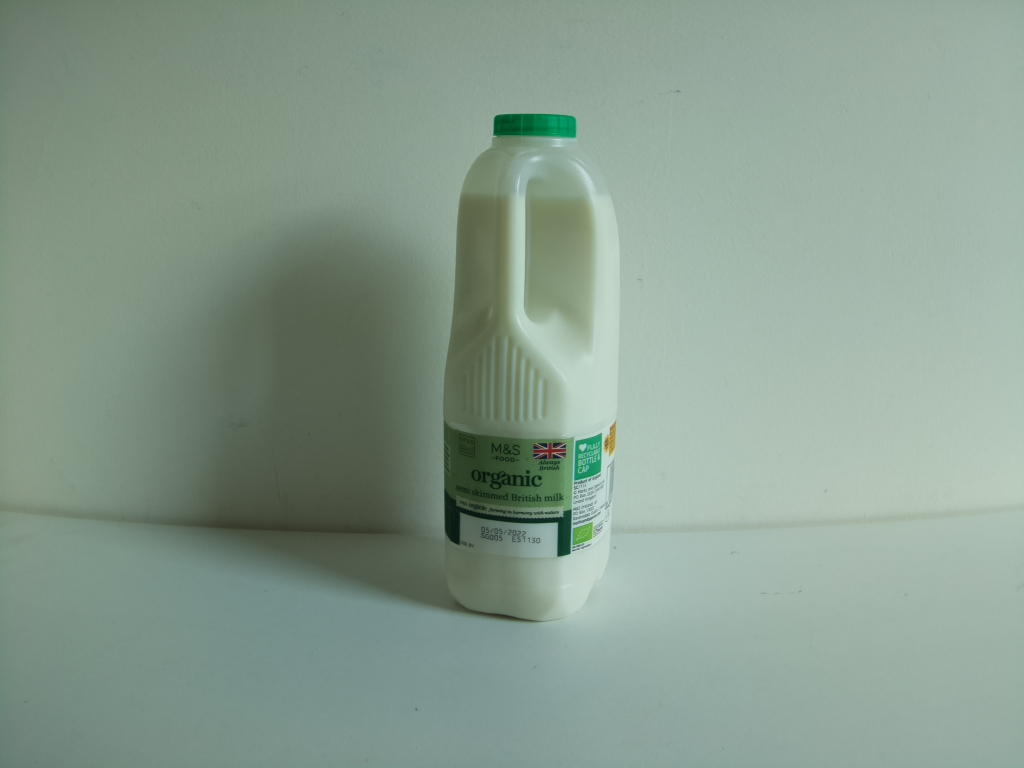milk: (438, 108, 629, 628)
